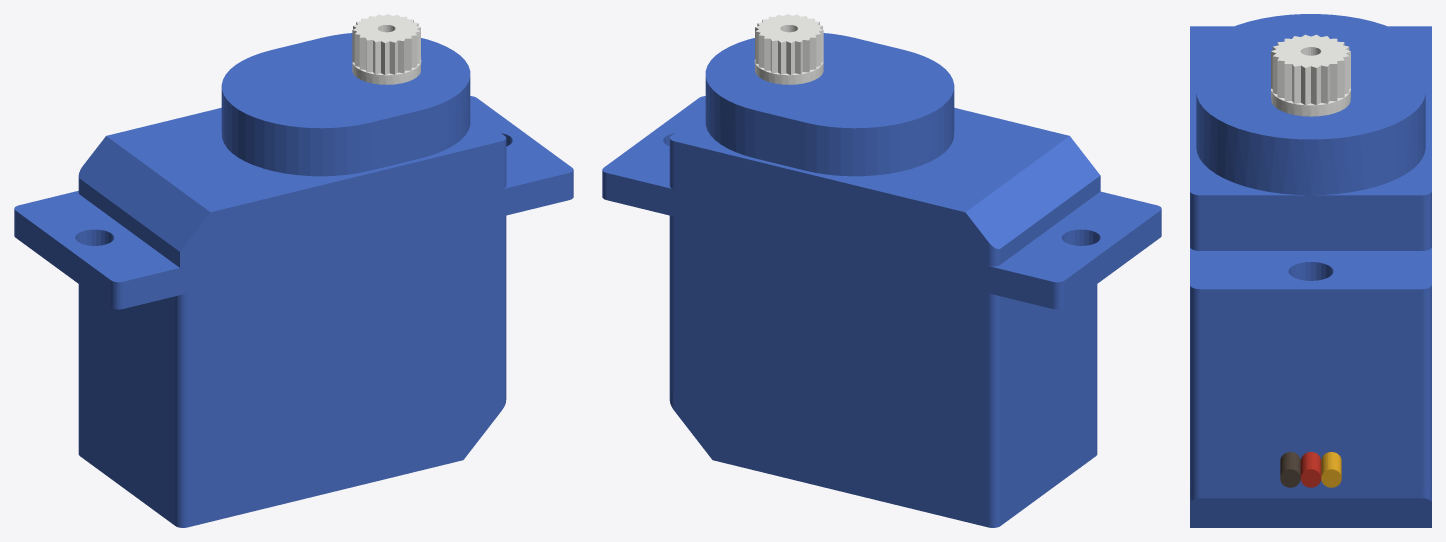
The model's file is adafruit-2201-submicro-servo.glb.
3 renders of one model, left to right at view 1: azimuth 30°, elevation 25°; view 2: azimuth 150°, elevation 25°; view 3: azimuth 270°, elevation 25°, orthographic. The views are drawn at different scales.
Parts seen in each view (by area): view 1: colour 2, colour 1; view 2: colour 2, colour 1; view 3: colour 2, colour 1, colour 4, colour 3, colour 5.
Part boxes in pixels (left/top/right/bottom): colour 2: left=14, top=33, right=573, bottom=527; colour 1: left=352, top=14, right=421, bottom=84; colour 2: left=602, top=33, right=1161, bottom=527; colour 1: left=754, top=14, right=823, bottom=84; colour 2: left=1190, top=14, right=1431, bottom=527; colour 1: left=1271, top=34, right=1350, bottom=116; colour 4: left=1300, top=452, right=1321, bottom=487; colour 3: left=1280, top=452, right=1300, bottom=487; colour 5: left=1321, top=452, right=1341, bottom=487.
Size of the model in its own units: 0.0301 by 0.0249 by 0.0118.
